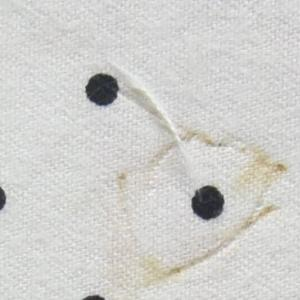Damage: (101, 59, 255, 163)
Oil Stain: (102, 127, 293, 292)
